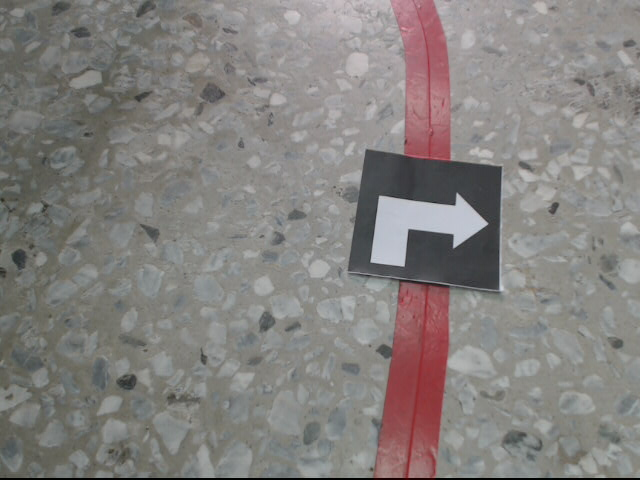right: (345, 152, 502, 291)
